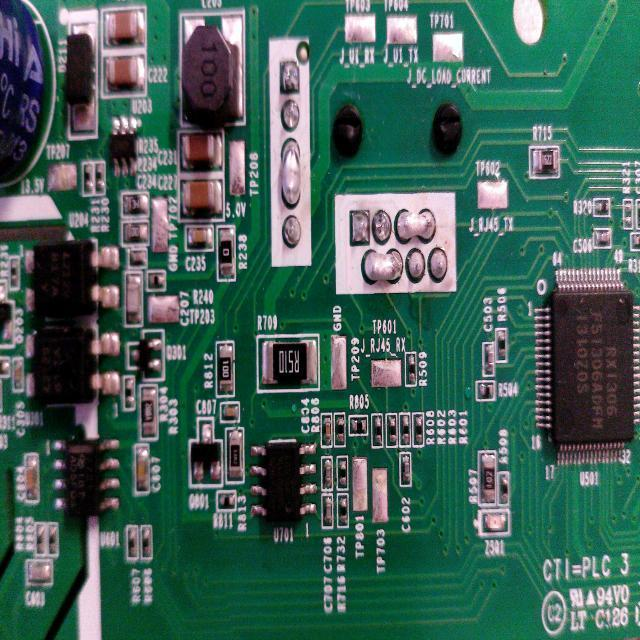Soldering shorted: (278, 134, 306, 208), (396, 199, 436, 243), (360, 250, 402, 286)
